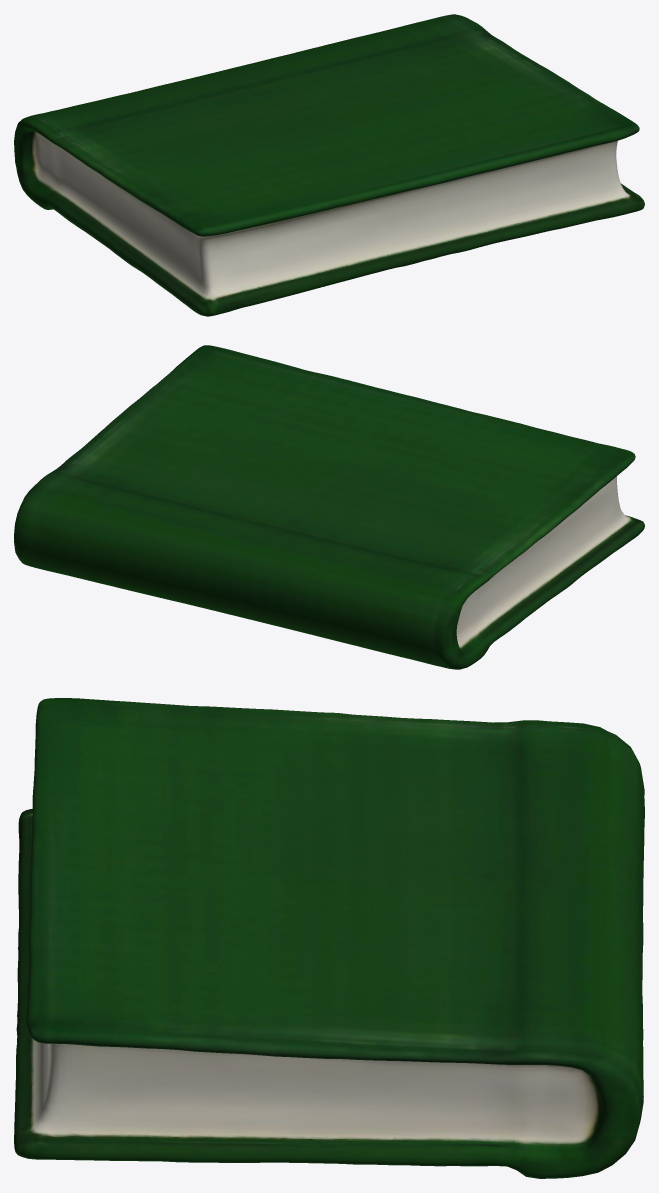
File: b7d6021c8e59_green_book__3d_asse.fbx
3 renders of one model, top to bottom at view 1: azimuth 30°, elevation 25°; view 2: azimuth 150°, elevation 25°; view 3: azimuth 270°, elevation 25°, orthographic. The views are drawn at different scales.
Parts seen in each view (by area): view 1: mesh; view 2: mesh; view 3: mesh.
Boxes of the visible parts, <box> form: mesh: <box>14,14,644,316</box>; mesh: <box>14,345,644,669</box>; mesh: <box>14,698,644,1178</box>.
Size of the model in its own units: 99.98 by 20.39 by 77.91.
